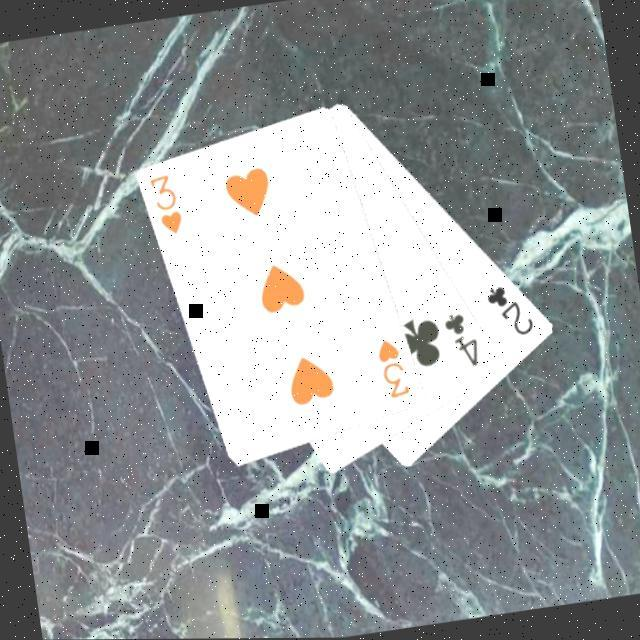2C: (482, 280, 540, 345)
3H: (146, 170, 189, 240), (374, 334, 416, 404)
4C: (442, 310, 486, 376)
